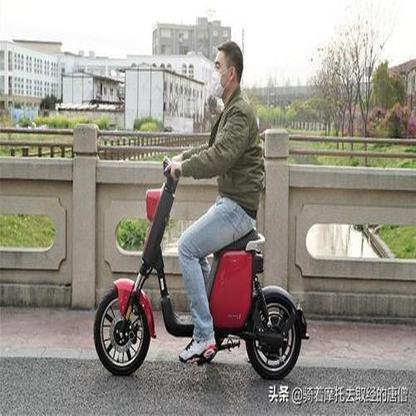target: (93, 42, 312, 378)
